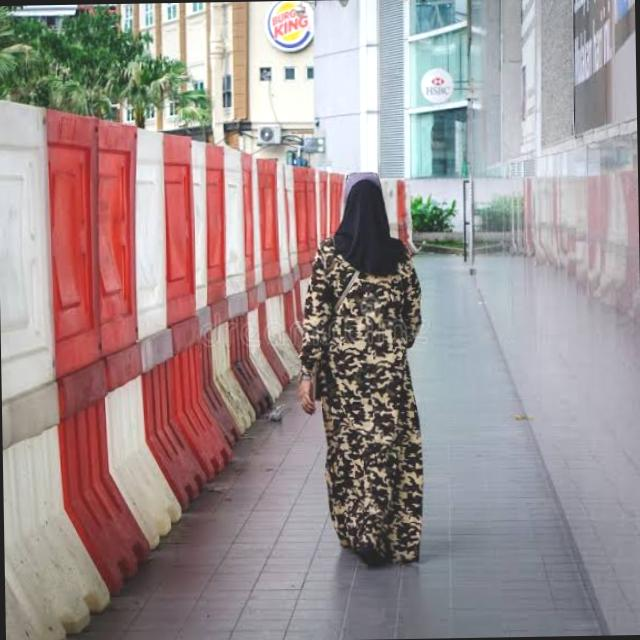Person: (286, 162, 436, 584)
